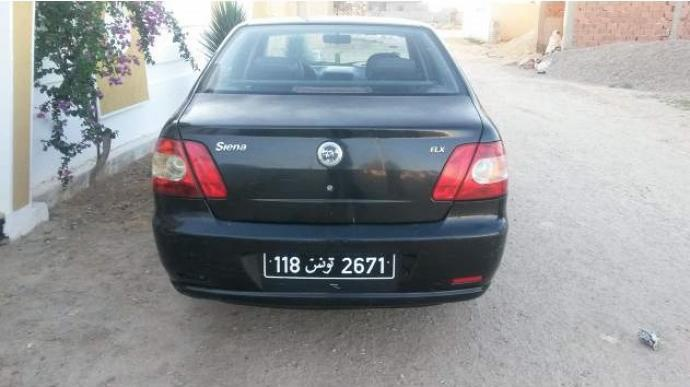LP: (262, 250, 397, 281)
